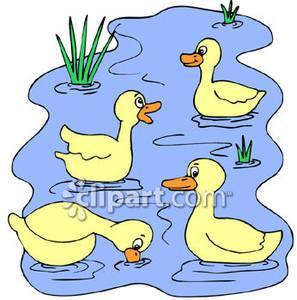bird: (157, 154, 282, 270), (49, 87, 161, 188), (5, 199, 152, 266), (177, 34, 267, 122)
